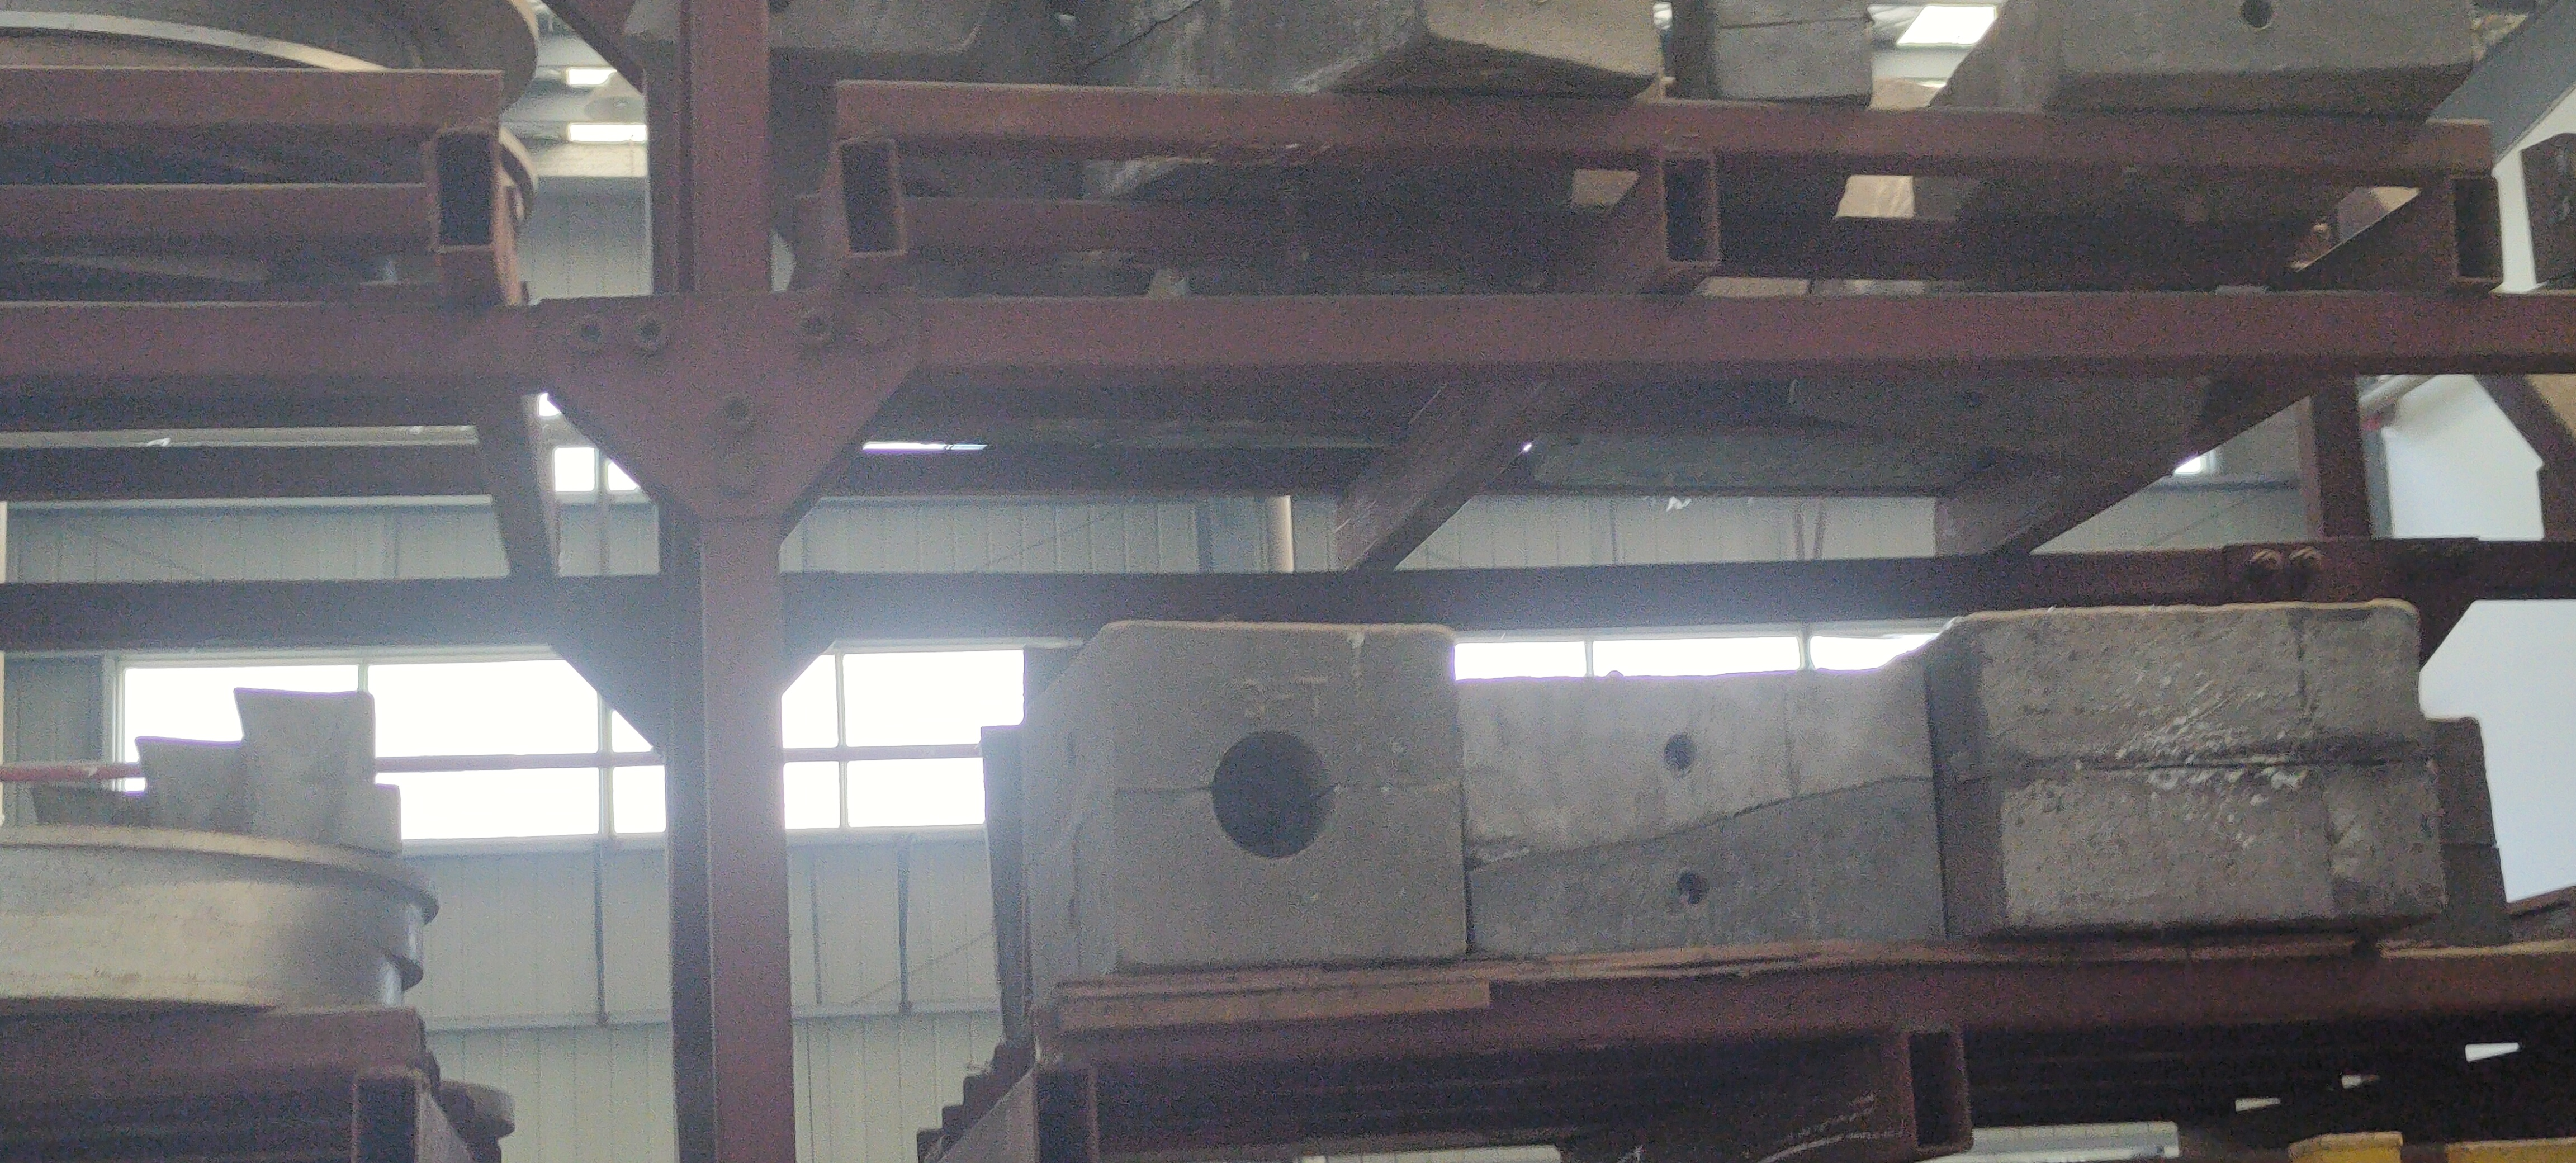pouring hole: (1211, 731, 1332, 857)
